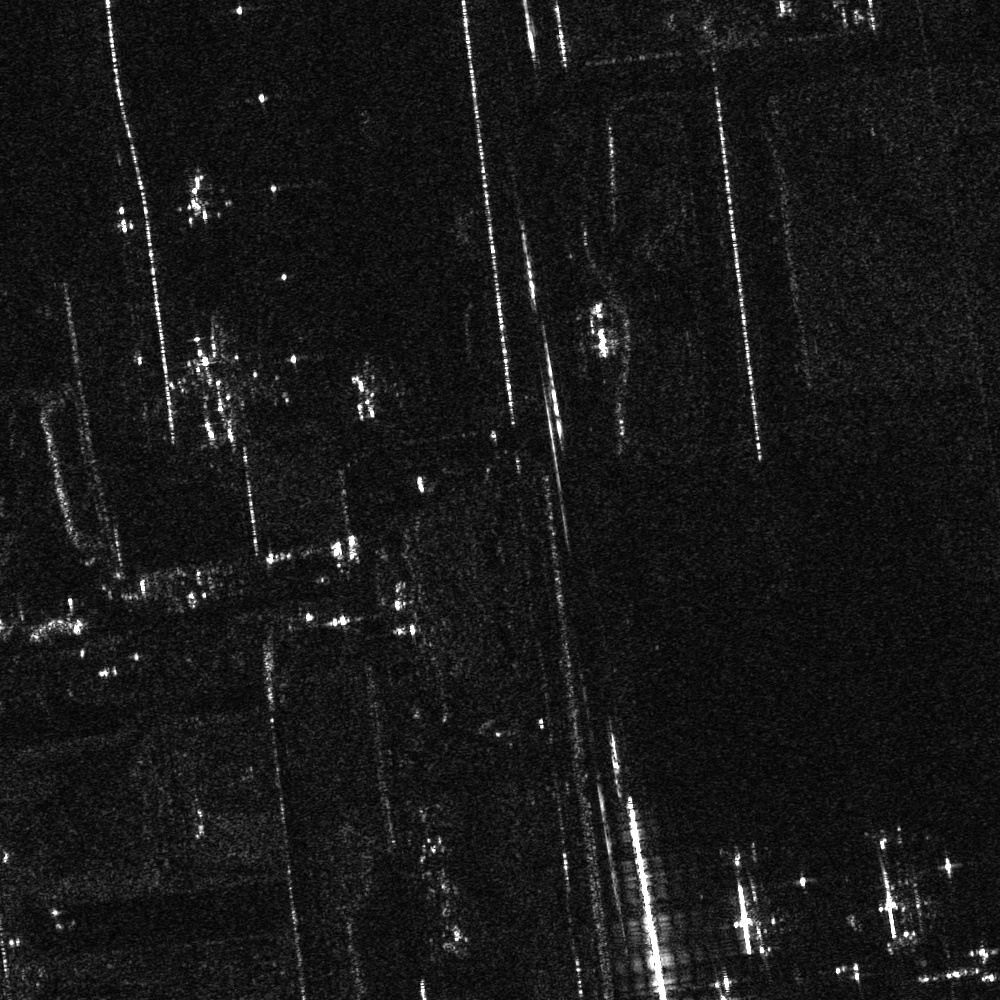A220: (342, 374, 386, 424)
other: (168, 329, 261, 440), (168, 172, 231, 229)
